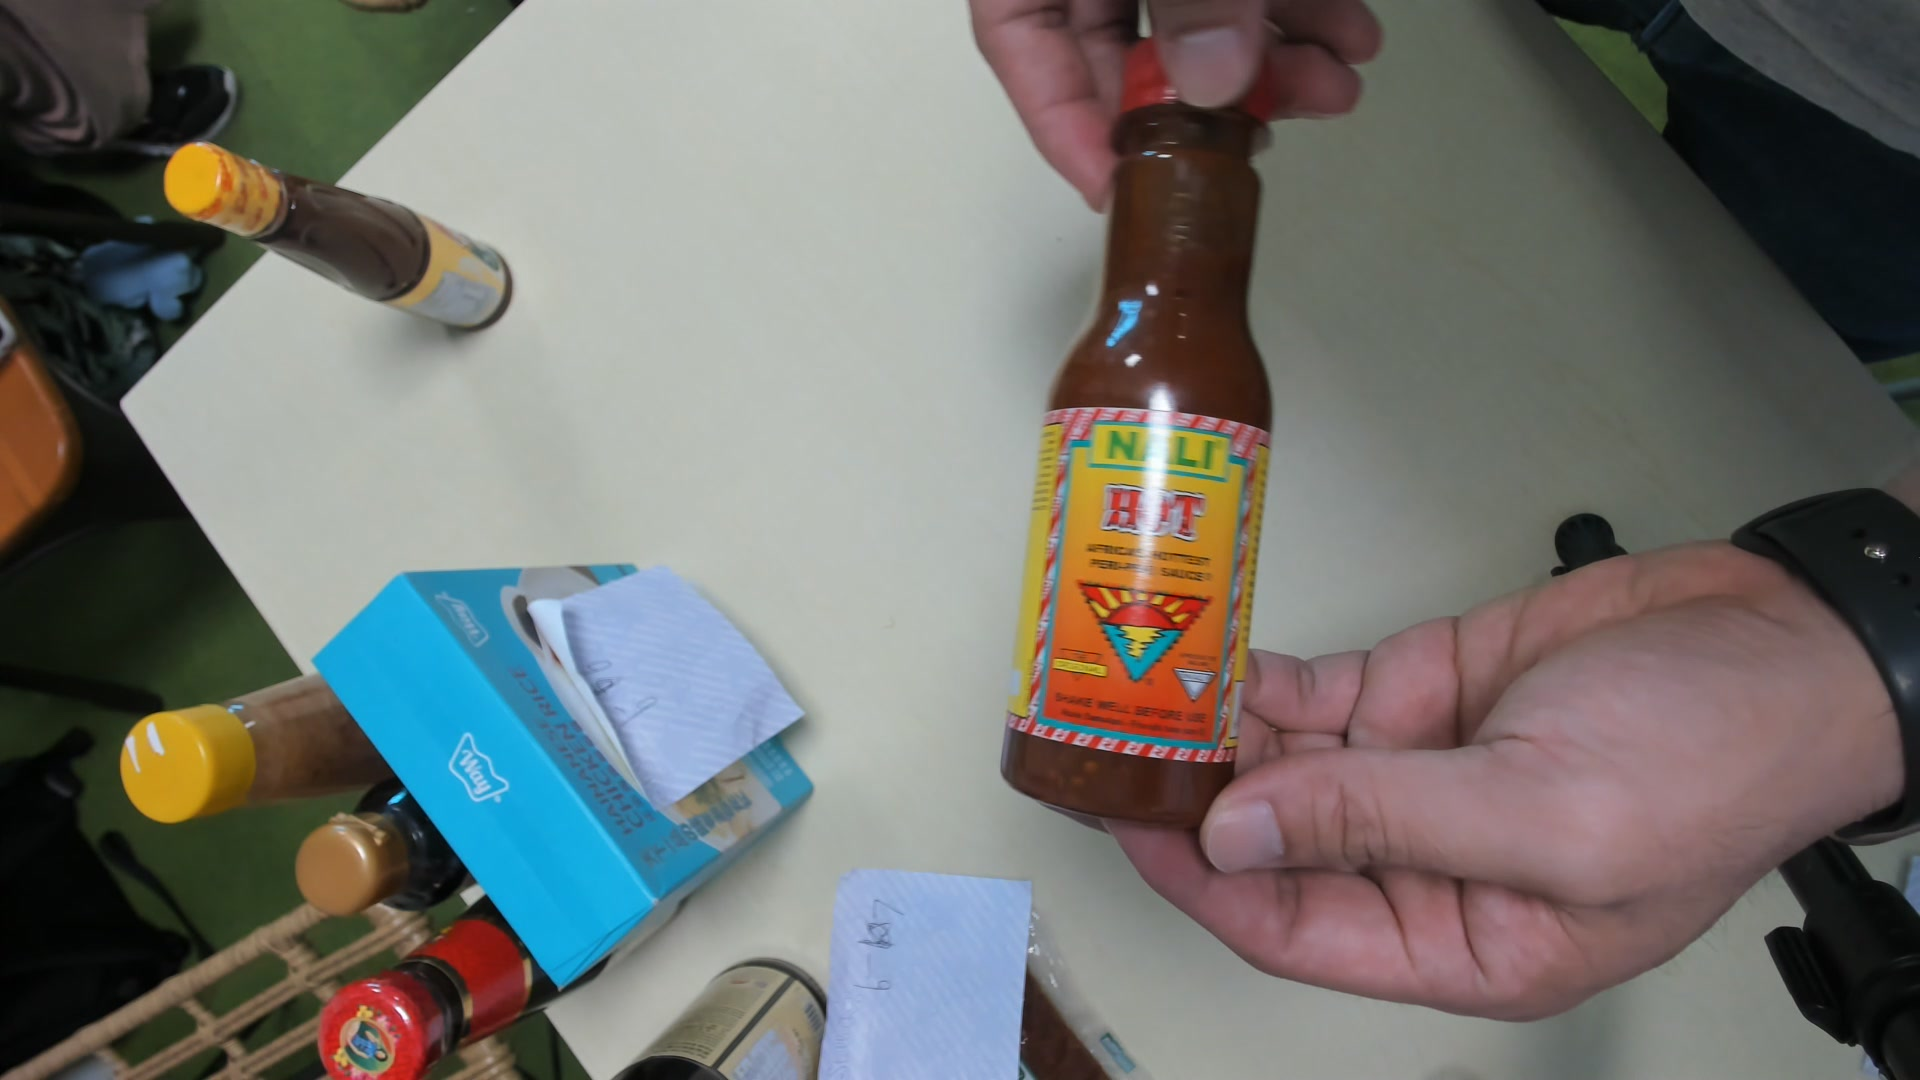KetchupChillSauce_100-199g_Halal_NonHealthy: (1004, 36, 1280, 828)
